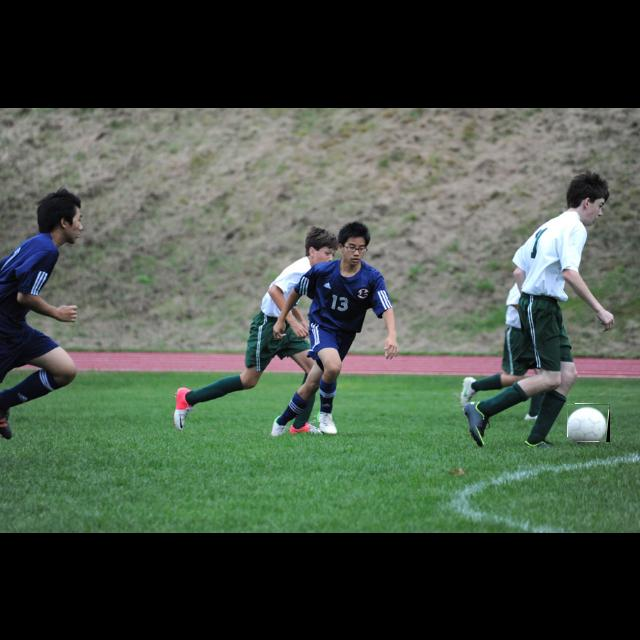Football: (568, 404, 610, 442)
